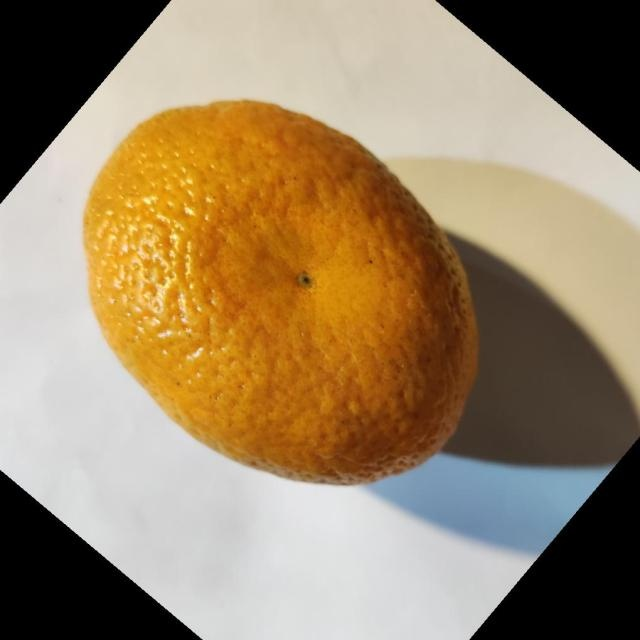agrume: (81, 98, 480, 486)
